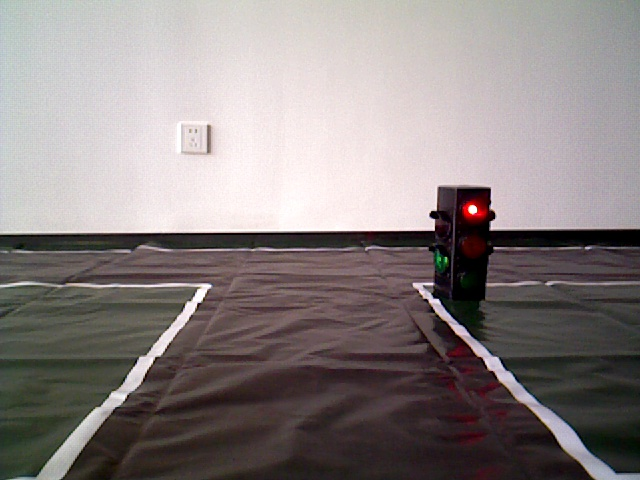red: (432, 189, 484, 298)
